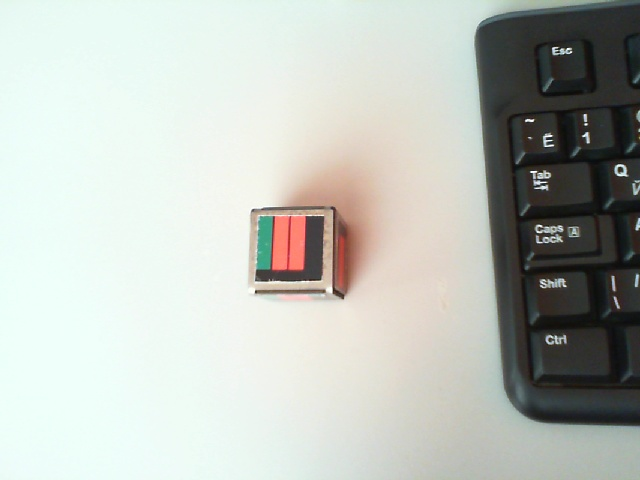square: (256, 215, 324, 283)
